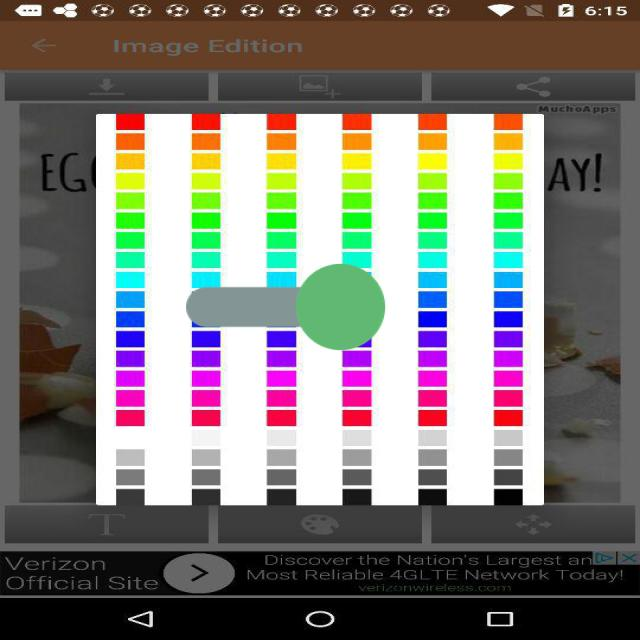social proof: (186, 211, 385, 403)
